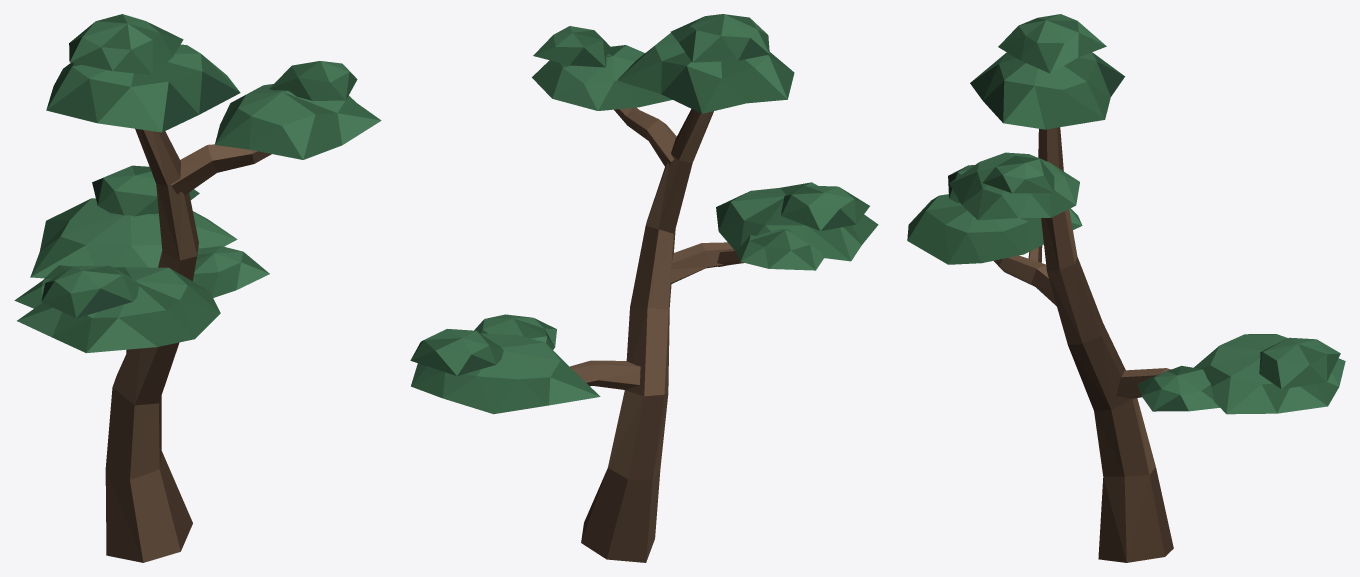
File: tree_pine_a.fbx
3 views of the same model, side by side, from view 1: azimuth 30°, elevation 25°; view 2: azimuth 150°, elevation 25°; view 3: azimuth 270°, elevation 25° (orthographic). The views are drawn at different scales.
Visible parts, largest first — view 1: tree_pine_a; view 2: tree_pine_a; view 3: tree_pine_a.
Part boxes in pixels (bbox=[...]): tree_pine_a: bbox=[14, 14, 381, 562]; tree_pine_a: bbox=[410, 14, 878, 562]; tree_pine_a: bbox=[907, 14, 1345, 562].
Bounding box in the file's own units: 3.82 × 6.2 × 4.81.
